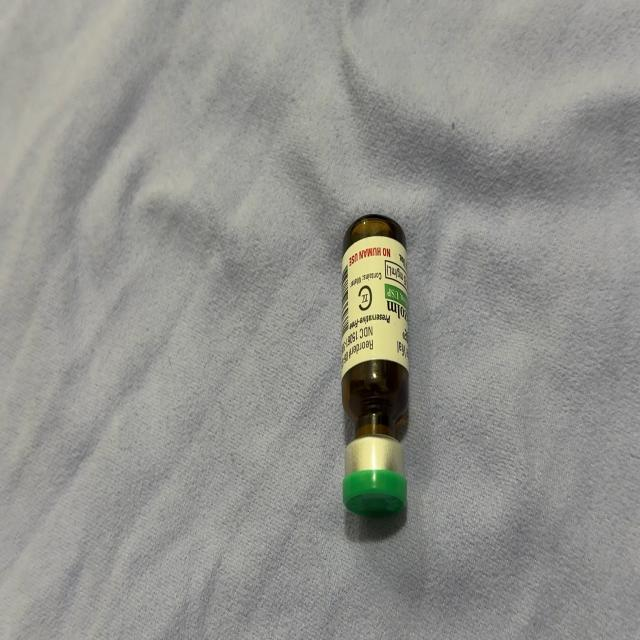midazolm: (342, 219, 409, 512)
